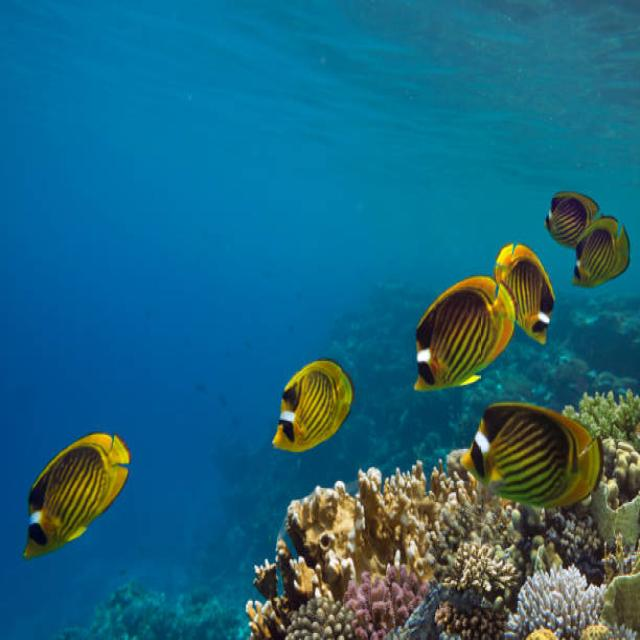ButterflyFish: (454, 396, 605, 508), (24, 430, 136, 558), (412, 275, 518, 400), (269, 351, 355, 458), (496, 237, 557, 347), (569, 213, 628, 291), (541, 185, 609, 243)
